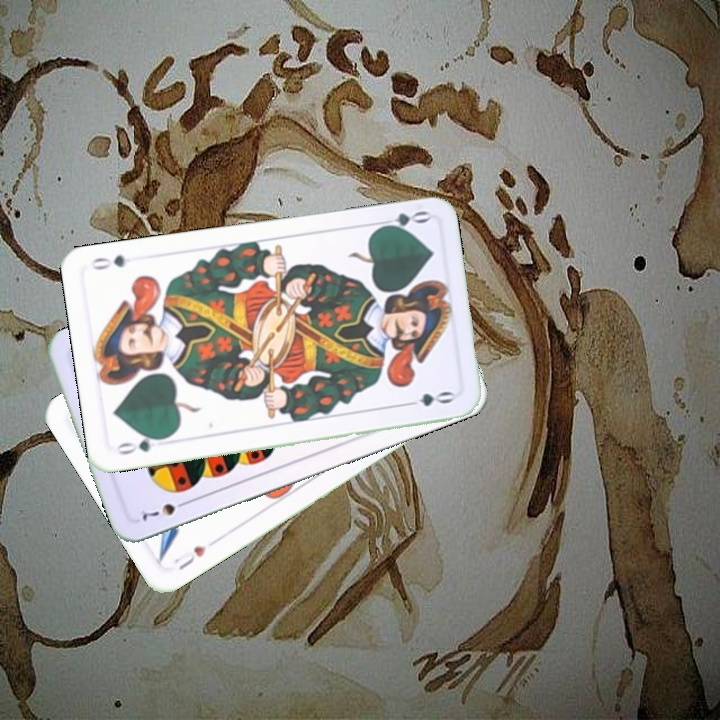GO: (372, 206, 431, 234), (112, 431, 170, 457)
HU: (169, 542, 209, 573)
S7: (135, 496, 192, 523)
